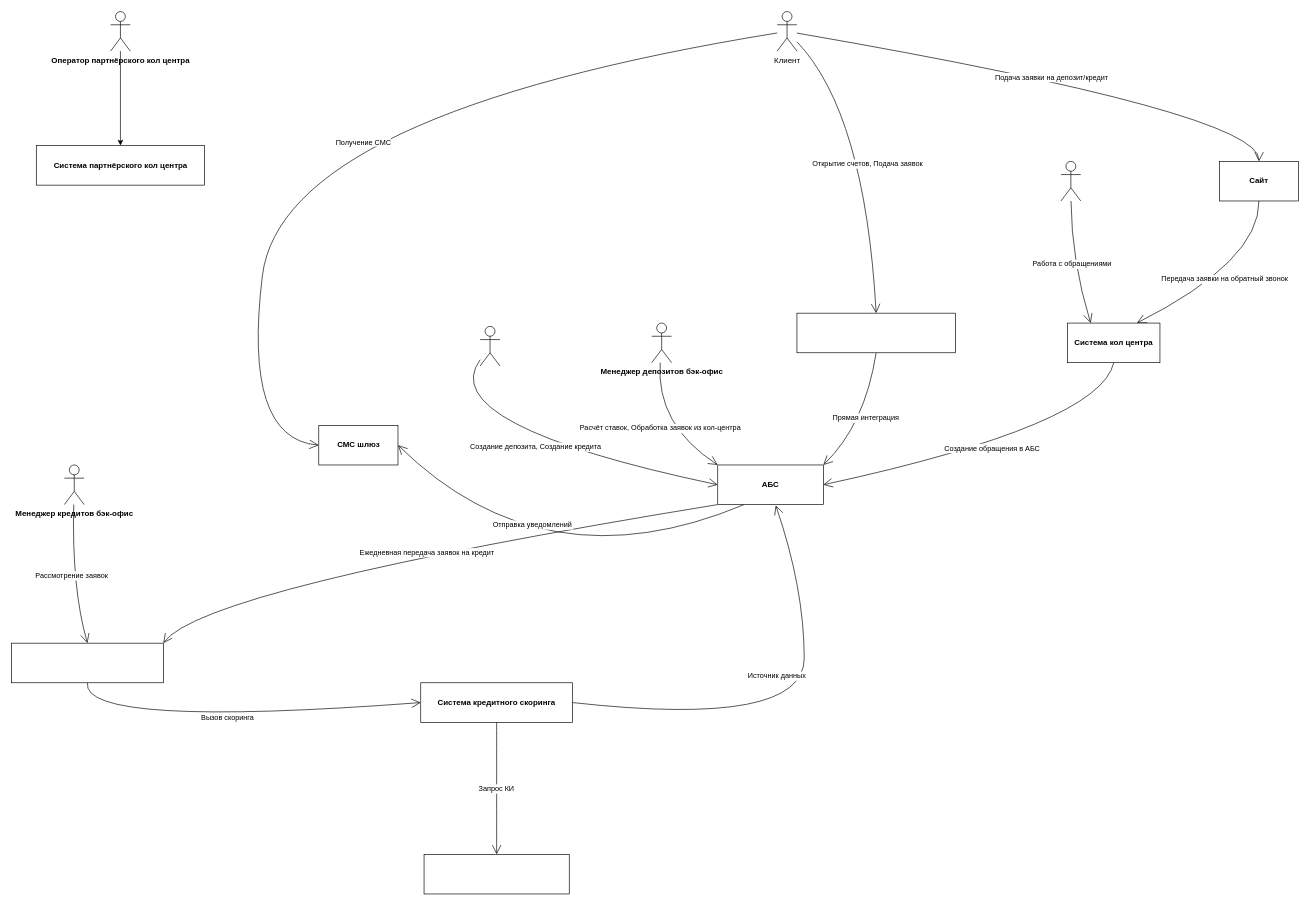
Image size: 1310x906. Some labels were removed from this diagram. The centre of each missing label's shape, as x and y in pixels:
"Бюро кредитных историй" belongs at [496,874].
"Интернет банк" belongs at [875,333].
"Кредитный конвейер" belongs at [87,663].
"Оператор кол центра" belongs at [1070,181].
"Сотрудник отделения" belongs at [489,346].
